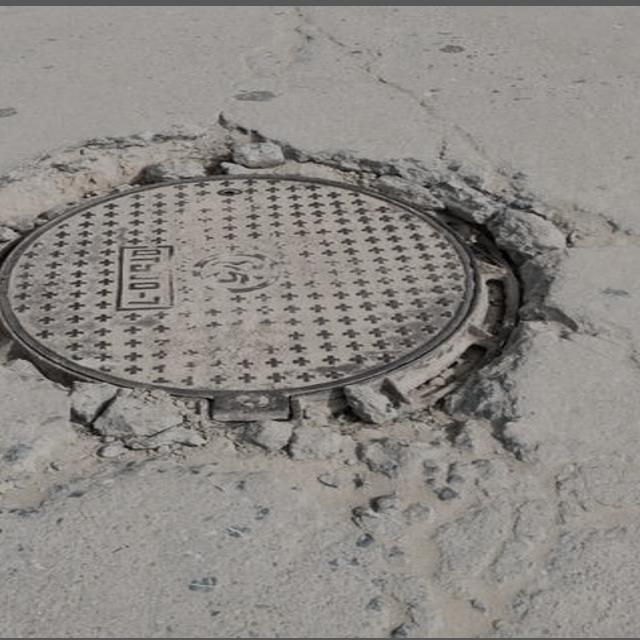circle: (0, 118, 616, 469)
